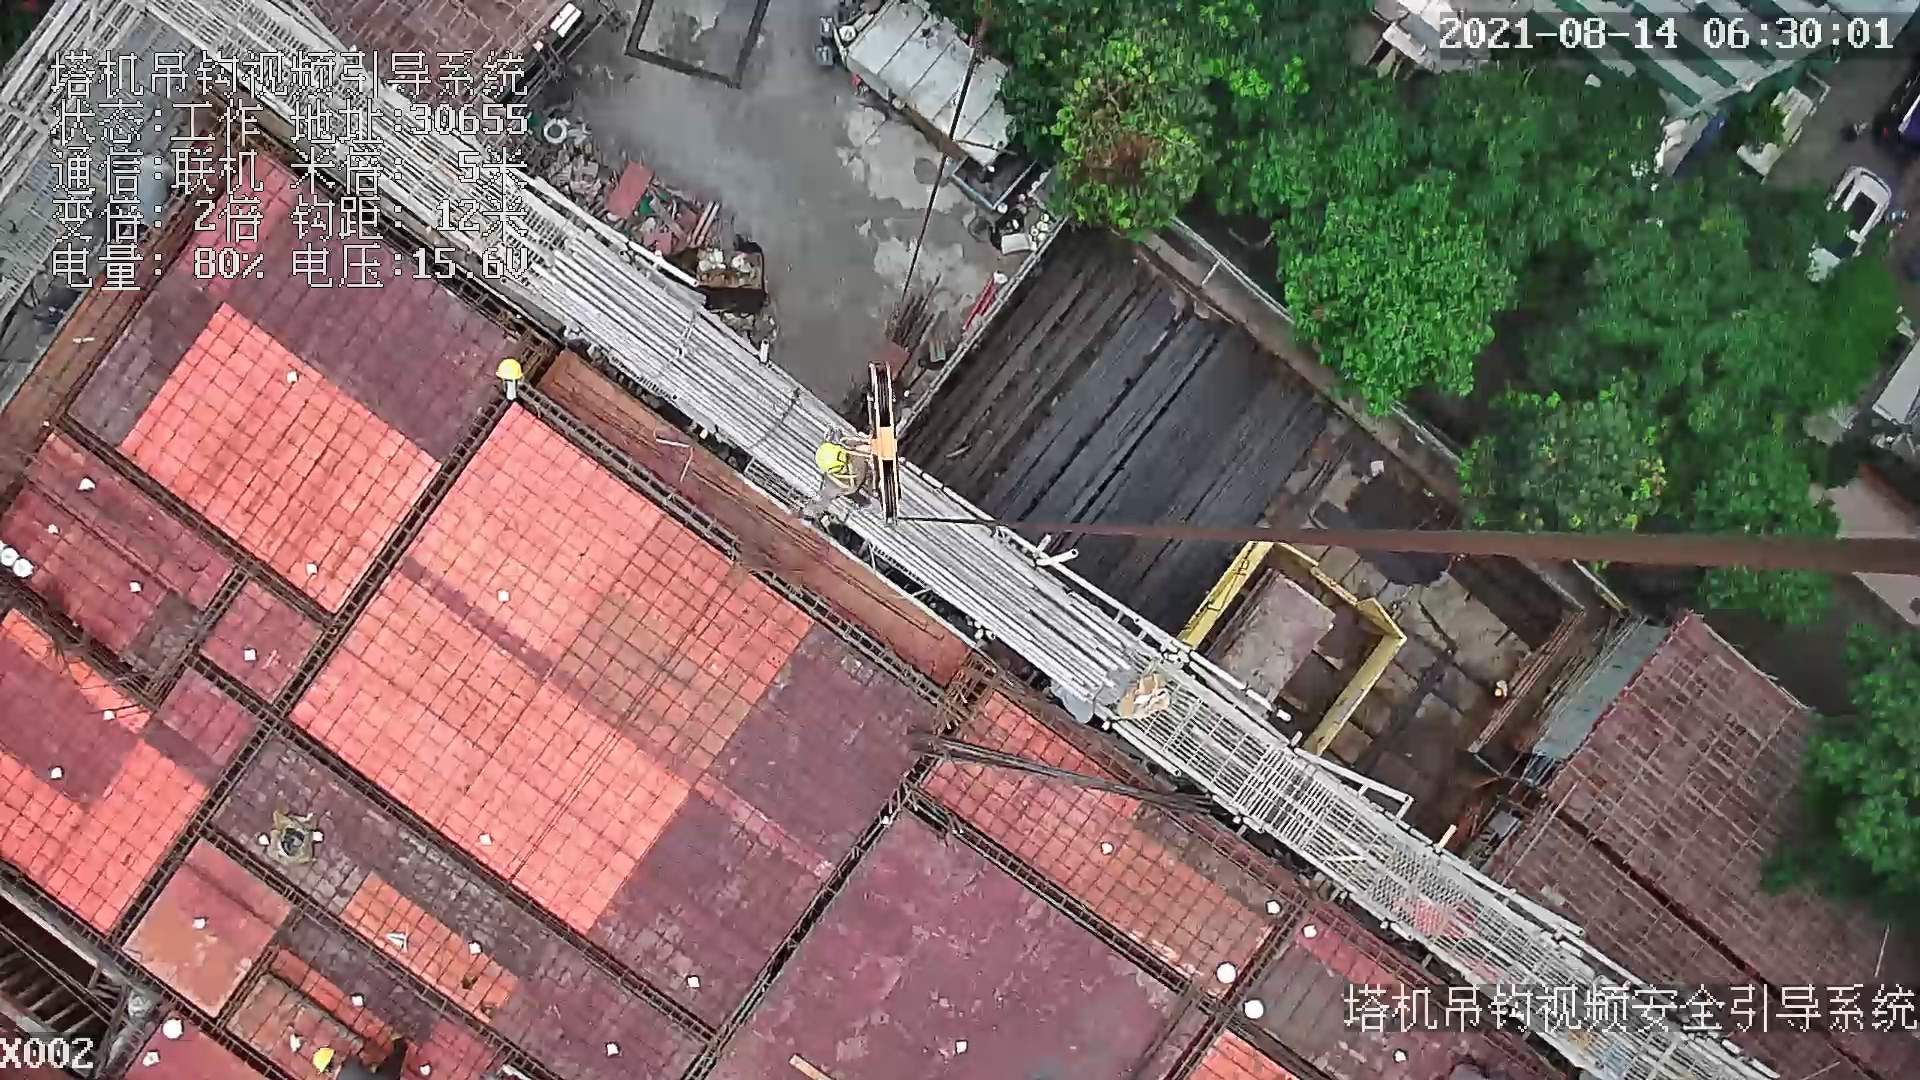helmet: (812, 442, 850, 475), (495, 357, 526, 382)
hook: (858, 355, 908, 523)
person: (806, 432, 872, 505)
rebar: (962, 267, 1313, 632)
